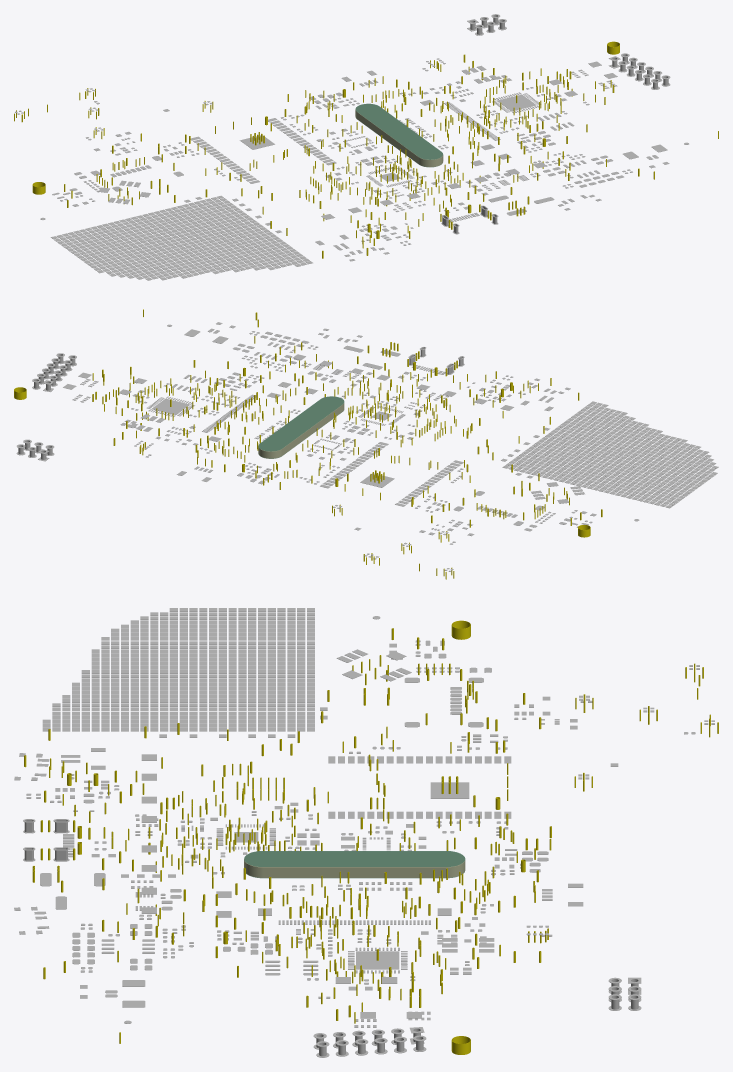
File: mch2022-badge.glb
3 renders of one model, top to bottom at view 1: azimuth 30°, elevation 25°; view 2: azimuth 150°, elevation 25°; view 3: azimuth 270°, elevation 25°, orthographic. The views are drawn at different scales.
Parts seen in each view (by area): view 1: =>[0:1:1:2], =>[0:1:1:3], =>[0:1:1:6], =>[0:1:1:4]; view 2: =>[0:1:1:2], =>[0:1:1:3], =>[0:1:1:6], =>[0:1:1:4]; view 3: =>[0:1:1:2], =>[0:1:1:3], =>[0:1:1:6], =>[0:1:1:4].
Part boxes in pixels (x1,y1,x2,y2): =>[0:1:1:2]: [15, 14, 688, 280]; =>[0:1:1:3]: [14, 41, 718, 258]; =>[0:1:1:6]: [355, 104, 443, 167]; =>[0:1:1:4]: [355, 103, 442, 167]; =>[0:1:1:2]: [16, 322, 718, 571]; =>[0:1:1:3]: [14, 309, 602, 579]; =>[0:1:1:6]: [258, 397, 344, 458]; =>[0:1:1:4]: [258, 396, 344, 458]; =>[0:1:1:2]: [14, 608, 714, 1057]; =>[0:1:1:3]: [24, 620, 718, 1054]; =>[0:1:1:6]: [244, 852, 465, 877]; =>[0:1:1:4]: [244, 851, 465, 878].
Bounding box in the file's own units: 0.138 × 0.00161 × 0.0915.
